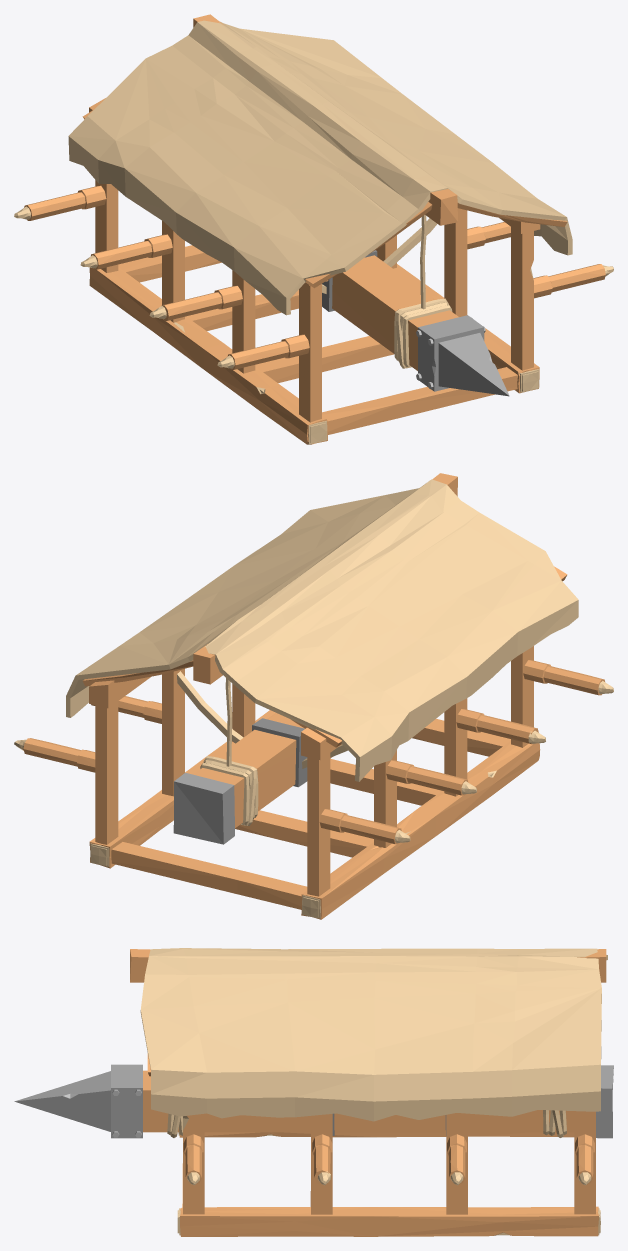
File: battle_ram.vehicle.fbx
3 renders of one model, top to bottom at view 1: azimuth 30°, elevation 25°; view 2: azimuth 150°, elevation 25°; view 3: azimuth 270°, elevation 25°, orthographic. The views are drawn at different scales.
Visible parts, largest first — view 1: battle_ram.vehicle; view 2: battle_ram.vehicle; view 3: battle_ram.vehicle.
Boxes of the visible parts, x1,y1,x2,y2 form: battle_ram.vehicle: [14, 14, 613, 444]; battle_ram.vehicle: [14, 473, 613, 919]; battle_ram.vehicle: [14, 948, 613, 1236].
Bounding box in the file's own units: 3.81 × 2.21 × 5.2.
